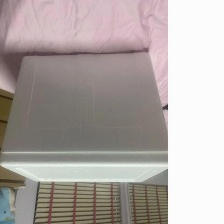foam_box: (0, 47, 167, 187)
